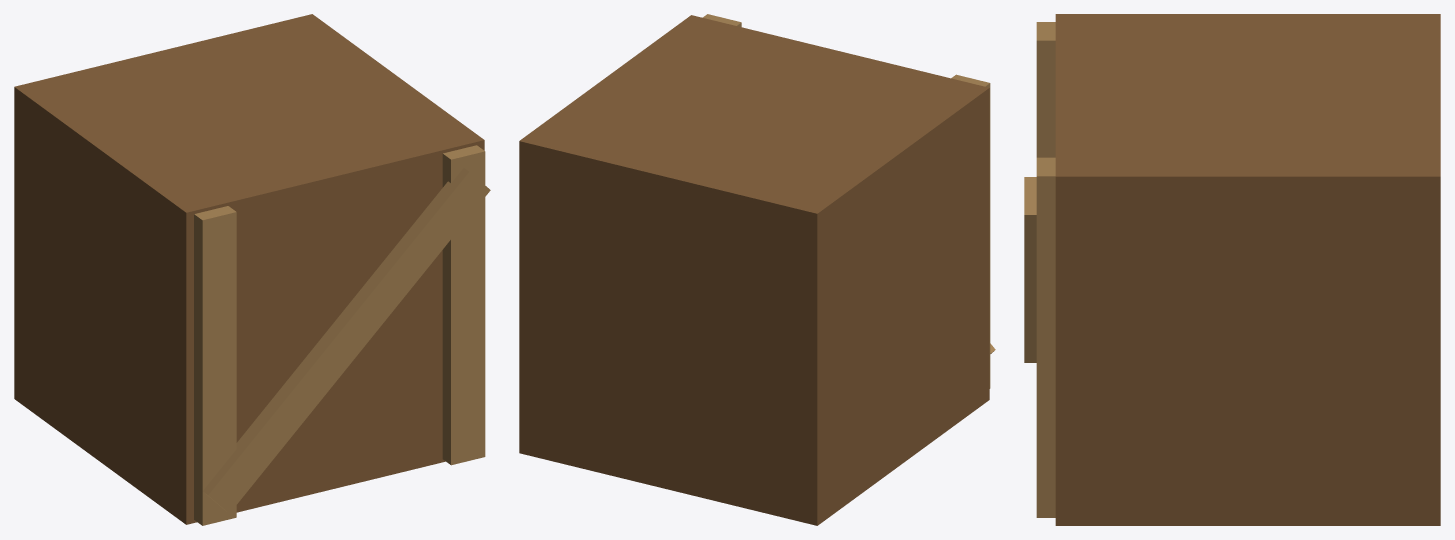
3 renders of one model, left to right at view 1: azimuth 30°, elevation 25°; view 2: azimuth 150°, elevation 25°; view 3: azimuth 270°, elevation 25°, orthographic. The views are drawn at different scales.
Parts seen in each view (by area): view 1: P05_十字板木箱; view 2: P05_十字板木箱; view 3: P05_十字板木箱.
Part boxes in pixels (x1,y1,x2,y2): P05_十字板木箱: (14,14,490,525); P05_十字板木箱: (519,14,995,525); P05_十字板木箱: (1024,14,1440,525).
Size of the model in its own units: 0.48 by 0.48 by 0.519.
